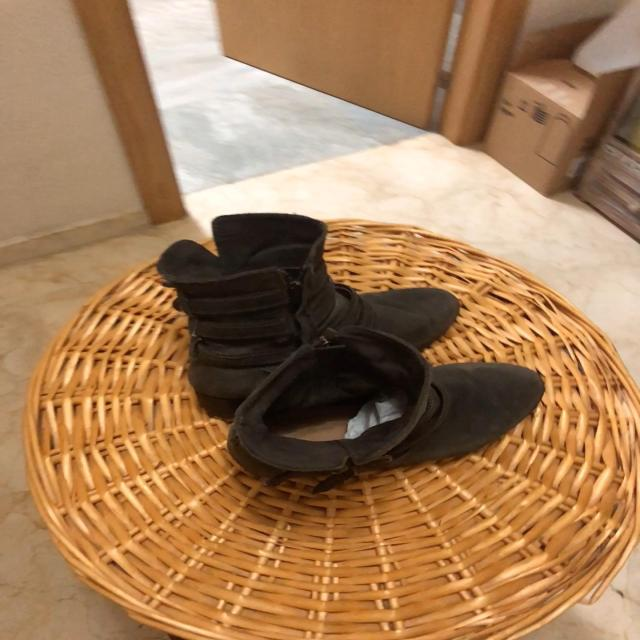shoe: (158, 215, 460, 414), (226, 331, 542, 478)
